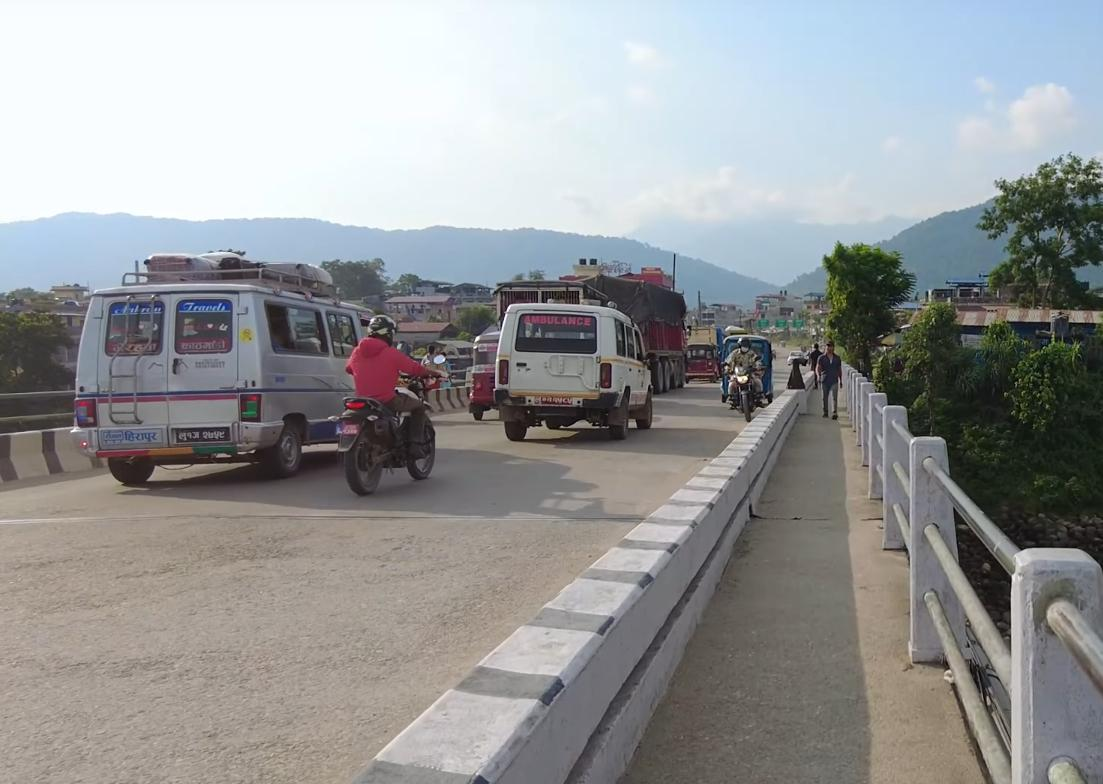ambulance: (489, 296, 668, 452)
auto_rickshaw: (464, 325, 504, 426)
bike: (329, 376, 443, 493), (725, 361, 761, 423)
micro_bus: (68, 273, 388, 483)
truck: (579, 268, 690, 390)
